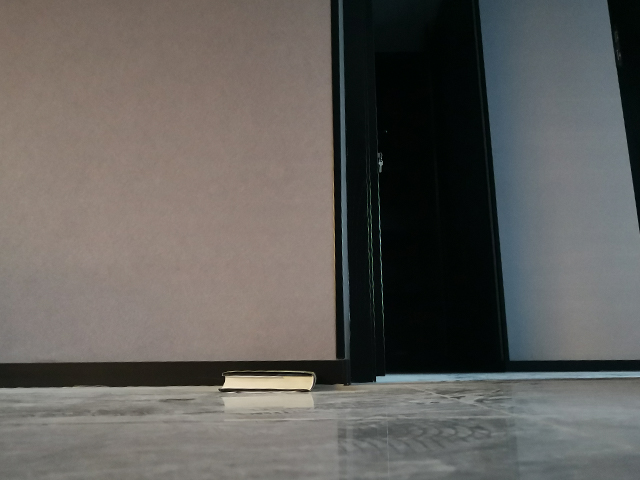book: (216, 365, 319, 394)
